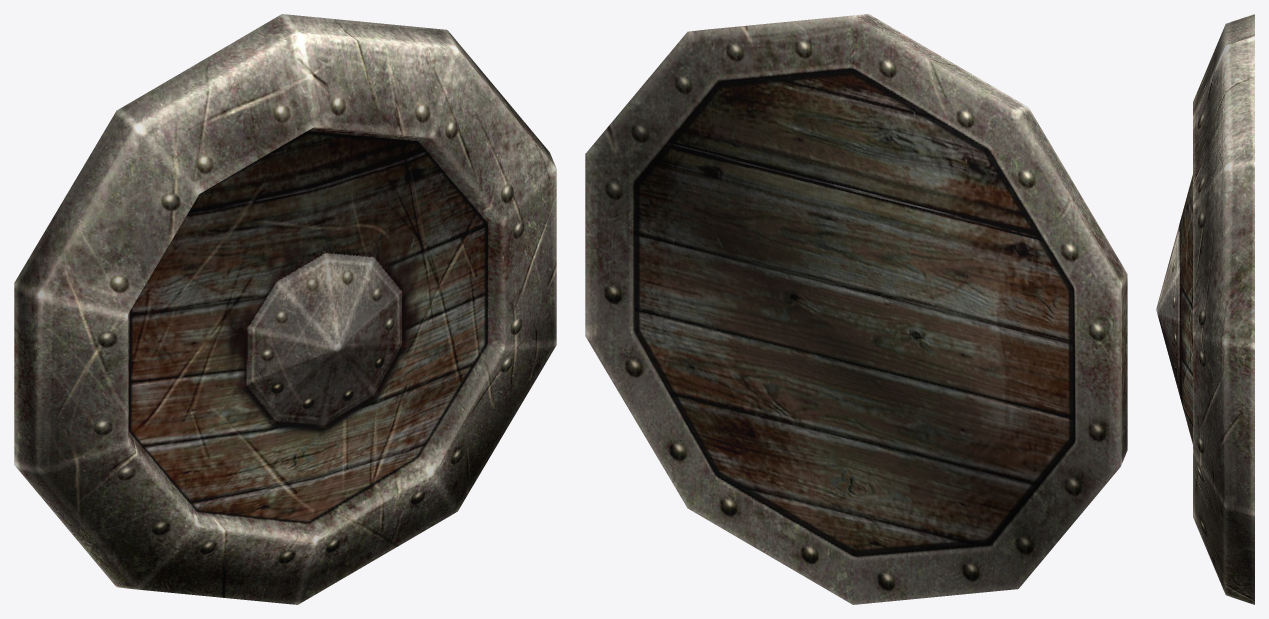
File: shield.obj
3 renders of one model, left to right at view 1: azimuth 30°, elevation 25°; view 2: azimuth 150°, elevation 25°; view 3: azimuth 270°, elevation 25°, orthographic. The views are drawn at different scales.
Parts seen in each view (by area): view 1: Sphere01; view 2: Sphere01; view 3: Sphere01.
Boxes of the visible parts, left/top/right/bottom form: Sphere01: left=14, top=14, right=556, bottom=604; Sphere01: left=585, top=14, right=1127, bottom=604; Sphere01: left=1156, top=14, right=1254, bottom=604.
Bounding box in the file's own units: 21.56 × 22.67 × 3.72.
